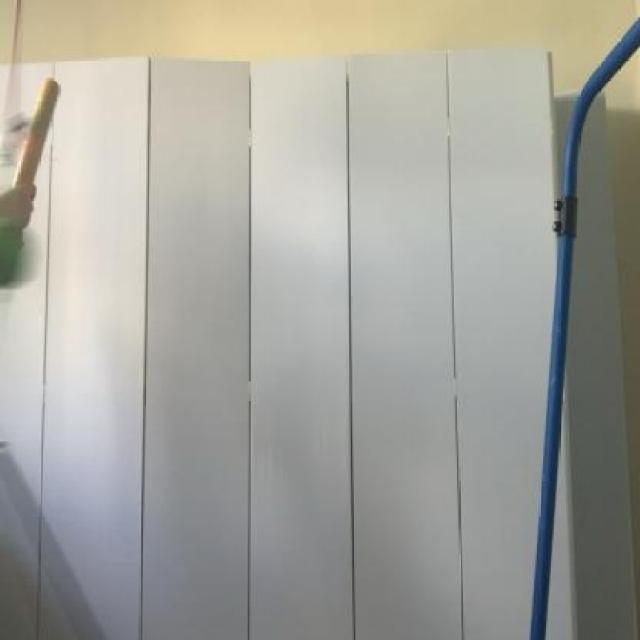baseball: (0, 205, 57, 309)
